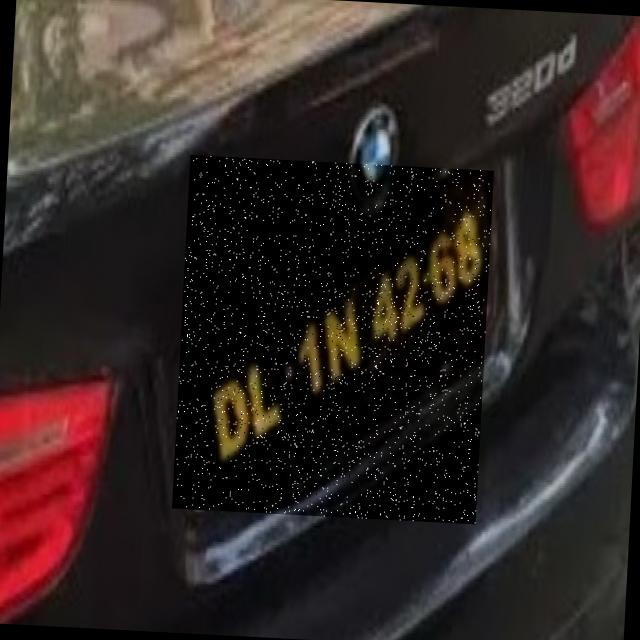Plate: (173, 156, 495, 525)
